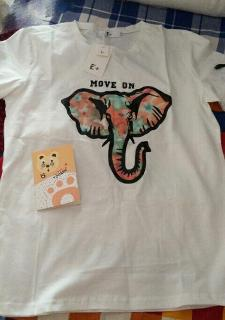short sleeve top: (0, 19, 225, 317)
